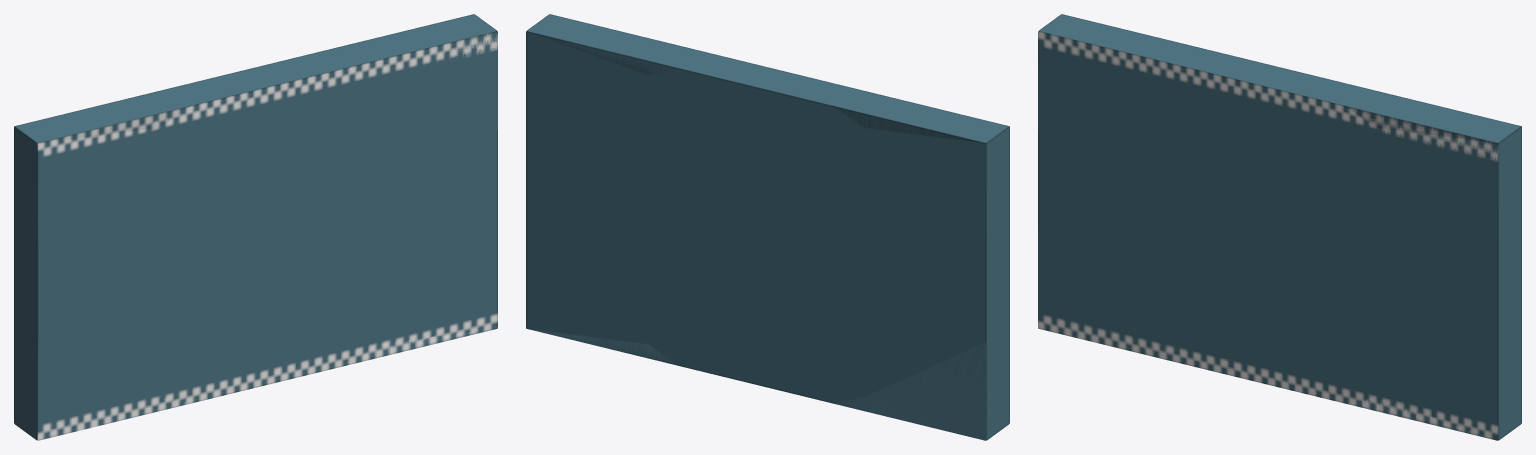
File: Walls.fbx
3 renders of one model, left to right at view 1: azimuth 30°, elevation 25°; view 2: azimuth 150°, elevation 25°; view 3: azimuth 330°, elevation 25°, orthographic.
Visible parts, largest first — view 1: Wall, cuboid; view 2: Wall, cuboid; view 3: Wall, cuboid.
Part boxes in pixels (x1=…): Wall: x1=14, y1=15, x2=497, y2=440; cuboid: x1=14, y1=14, x2=497, y2=440; Wall: x1=526, y1=14, x2=1009, y2=439; cuboid: x1=526, y1=14, x2=1009, y2=440; Wall: x1=1038, y1=15, x2=1521, y2=440; cuboid: x1=1038, y1=14, x2=1521, y2=440.
Size of the model in its own units: 1133 by 700 by 100.
Materials: 1 (1 with a texture image).
